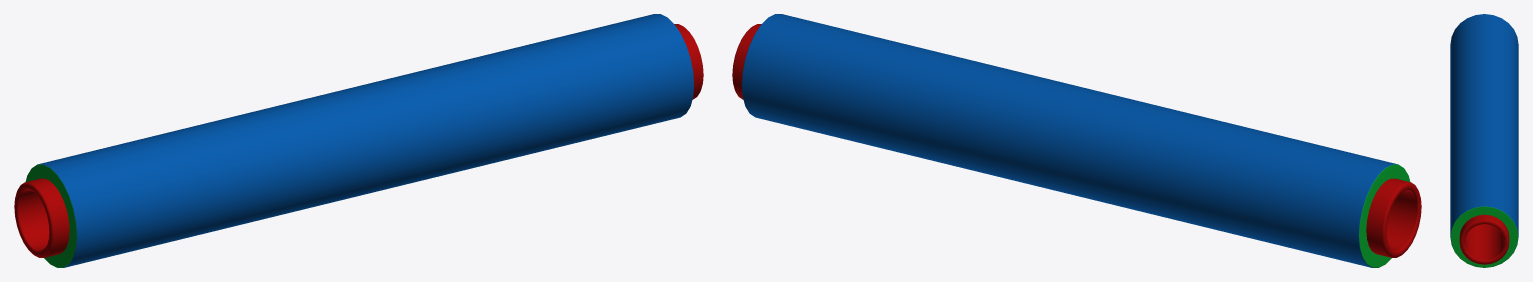
Rendered from SM_roll_1.fbx.
3 renders of one model, left to right at view 1: azimuth 30°, elevation 25°; view 2: azimuth 150°, elevation 25°; view 3: azimuth 270°, elevation 25°, orthographic. The views are drawn at different scales.
Visible parts, largest first — view 1: SM_roll_1; view 2: SM_roll_1; view 3: SM_roll_1.
Part boxes in pixels (bbox=[...]): SM_roll_1: bbox=[14, 14, 703, 267]; SM_roll_1: bbox=[732, 14, 1421, 267]; SM_roll_1: bbox=[1450, 14, 1518, 267].
Size of the model in its own units: 0.9136 by 0.1296 by 0.1296.
